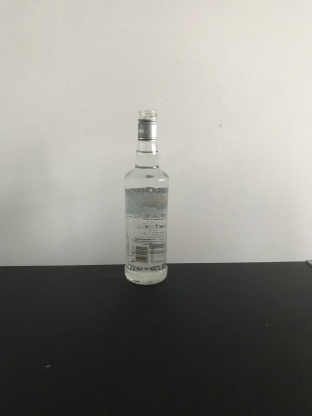nakretka: (135, 107, 159, 142)
